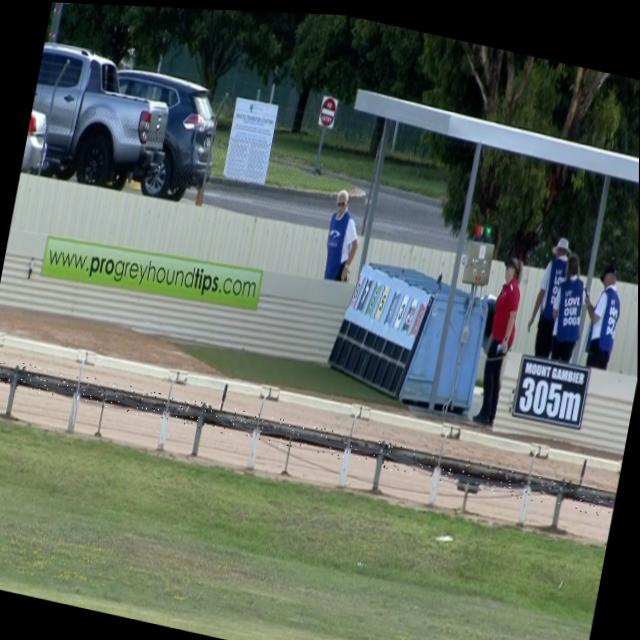rail: (0, 368, 616, 506)
